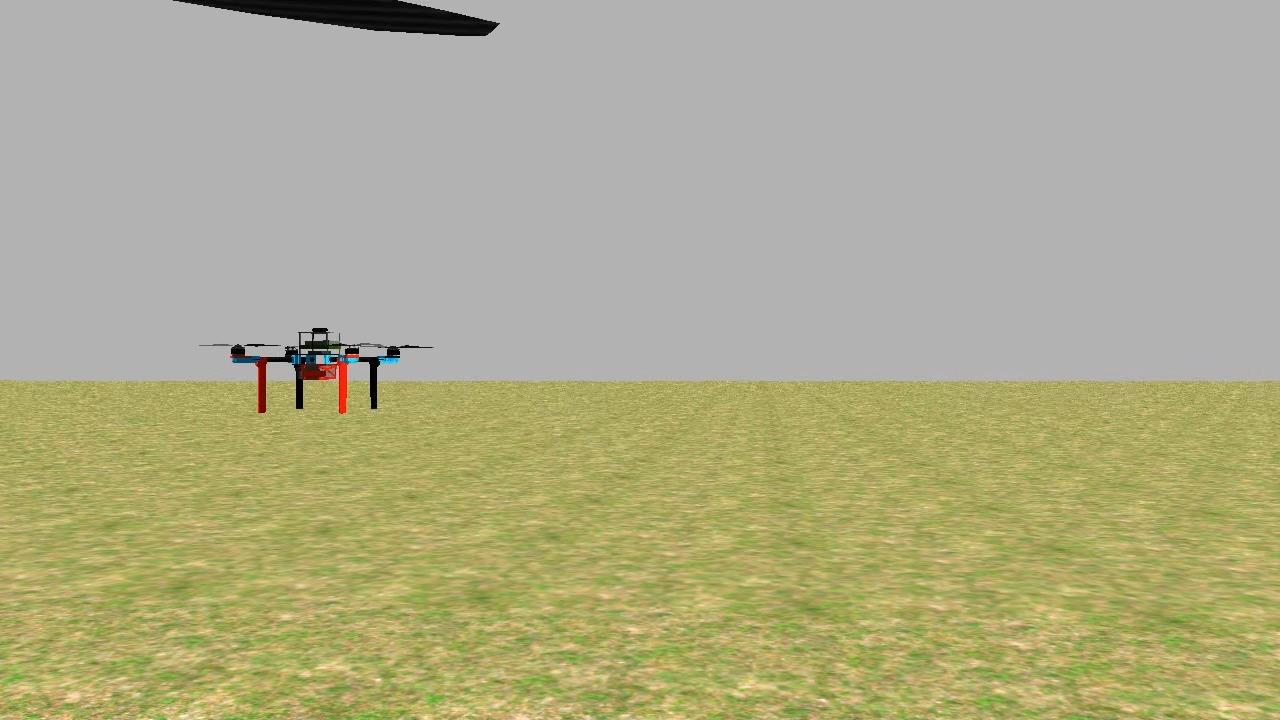UAV: (222, 302, 410, 431)
